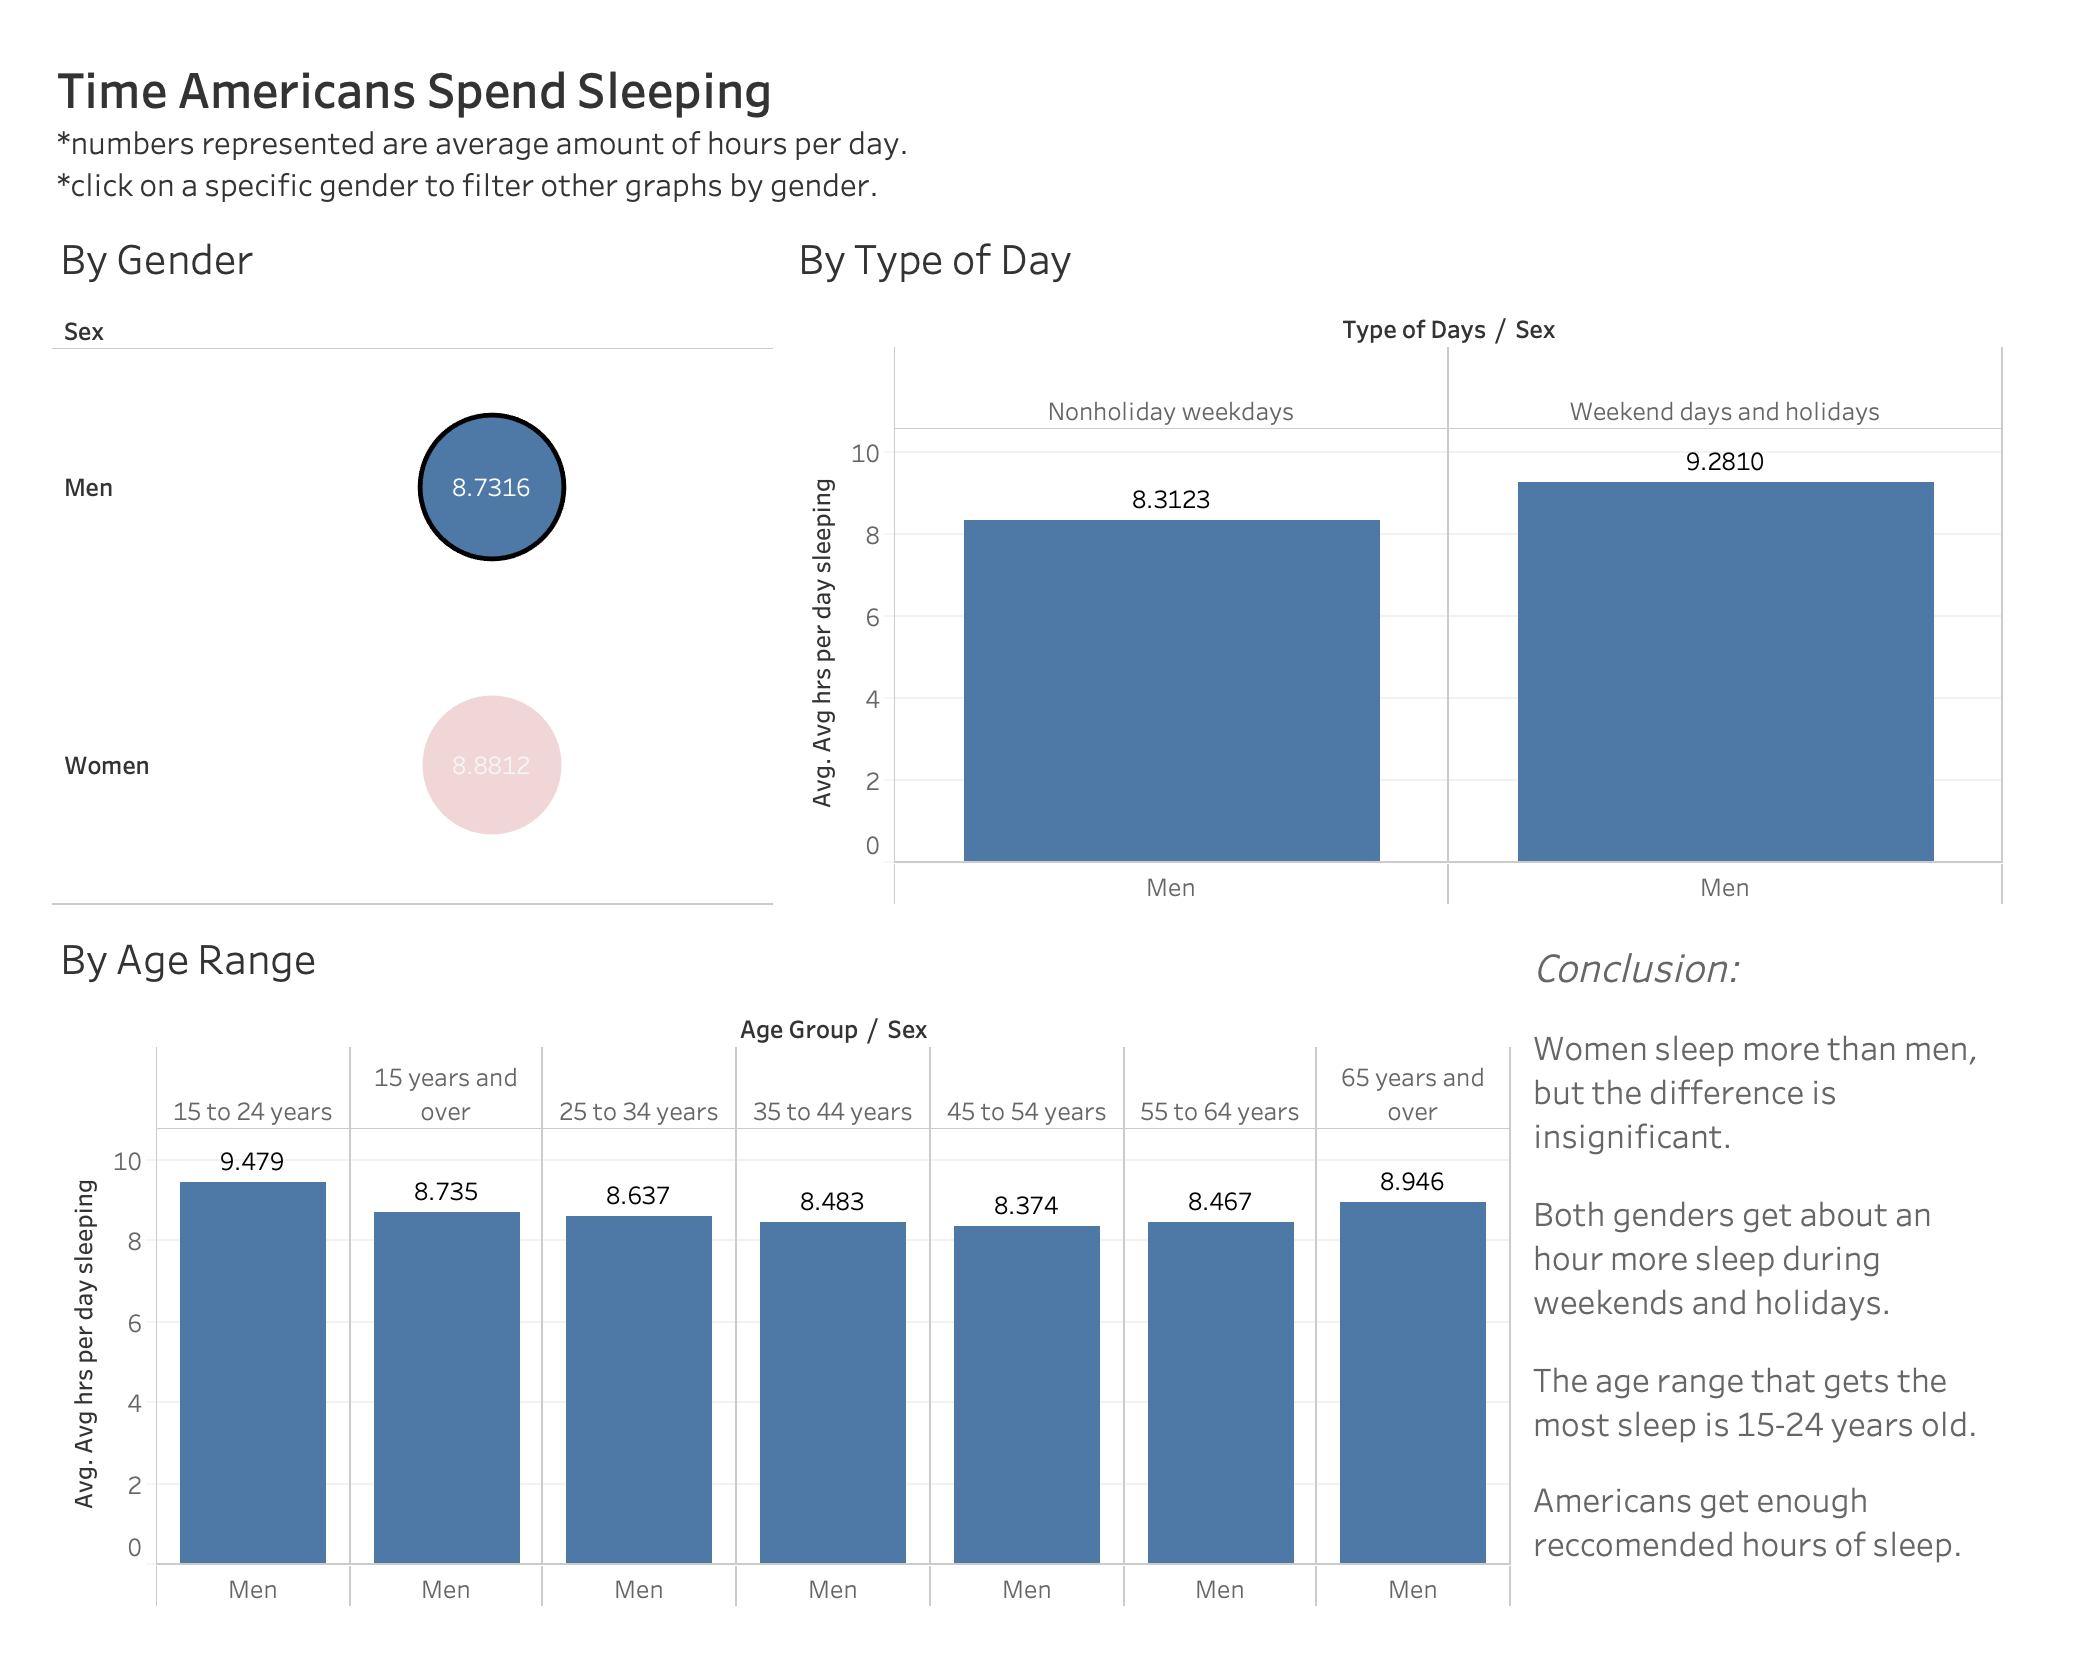

This screenshot's page, from the dashboard's own definition file:
{"tool":"tableau","page":{"name":"Dashboard 1","canvas":[1000,800],"ordinal":0},"visuals":[{"type":"worksheet","box":[0,0,1000,800]},{"type":"worksheet","param":"vert","box":[8,8,984,784]},{"type":"worksheet","box":[8,8,984,83]},{"type":"worksheet","param":"horz","box":[8,91,984,701]},{"type":"worksheet","param":"horz","box":[8,91,984,701]},{"type":"worksheet","param":"horz","box":[8,91,984,701]},{"type":"worksheet","box":[8,91,984,701]},{"type":"worksheet","title":"Sheet 3","mark":"Pie","rows":["Sex"],"box":[8,91,369,350.5]},{"type":"worksheet","title":"Sheet 2","mark":"Automatic","rows":["Avg hrs per day sleeping"],"cols":["Type of Days","Sex"],"box":[377,91,615,350.5]},{"type":"worksheet","title":"Sheet 1","mark":"Automatic","rows":["Avg hrs per day sleeping"],"cols":["Age Group","Sex"],"box":[8,441.5,738,350.5]},{"type":"worksheet","box":[746,441.5,246,350.5]}]}

Visuals, with their boxes in screenshot pixels (x1, y1, x2, y2), scaled from the page's 1000x800 canvas onto the 2096x1658 screenshot:
worksheet: (0,0,2095,1657)
worksheet: (17,17,2079,1641)
worksheet: (17,17,2079,189)
worksheet: (17,189,2079,1641)
worksheet: (17,189,2079,1641)
worksheet: (17,189,2079,1641)
worksheet: (17,189,2079,1641)
"Sheet 3" worksheet (Pie marks): (17,189,790,915)
"Sheet 2" worksheet: (790,189,2079,915)
"Sheet 1" worksheet: (17,915,1564,1641)
worksheet: (1564,915,2079,1641)
